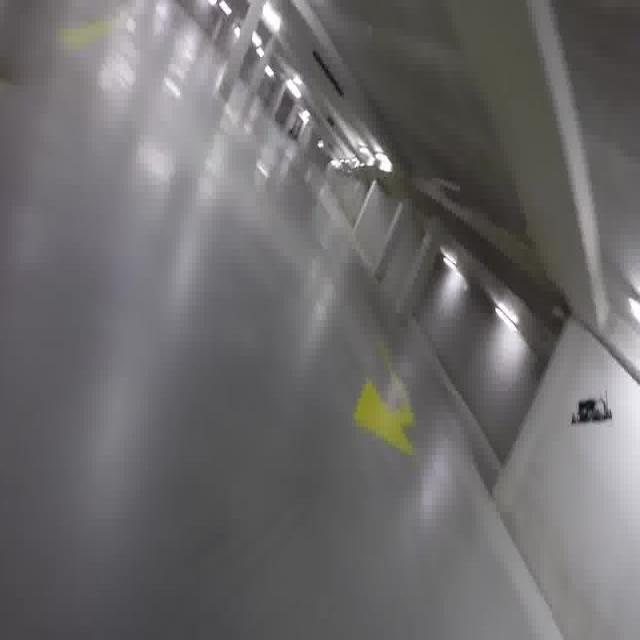drones: (572, 389, 614, 431)
